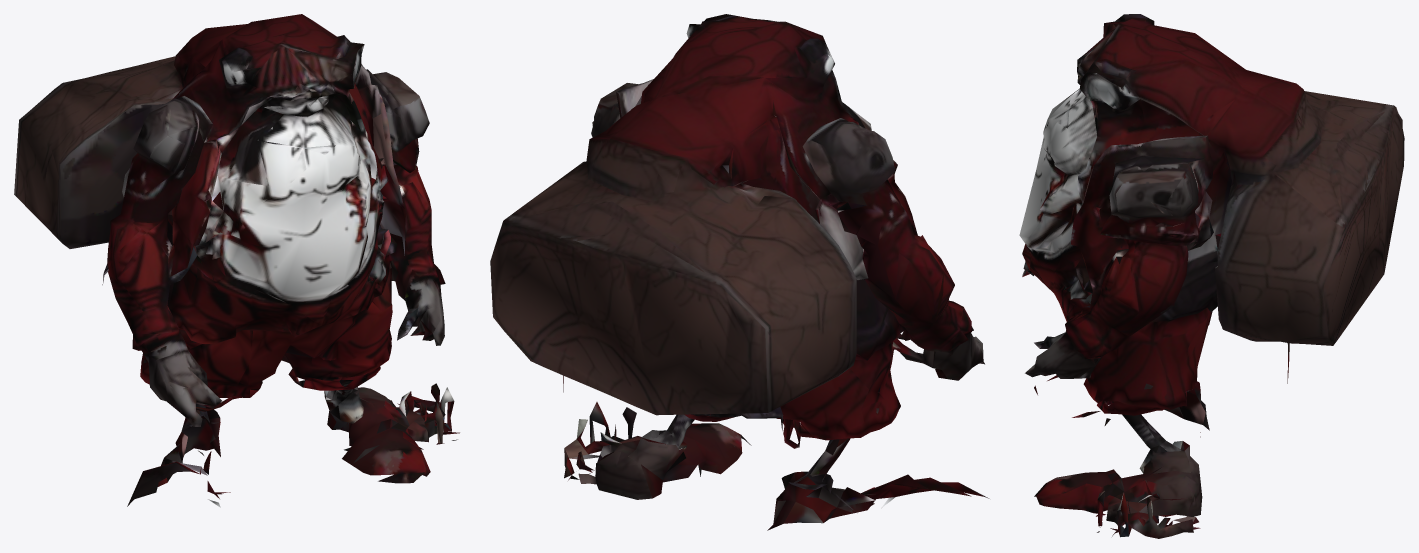
The model's file is cinderhand_thrall.glb.
The picture shows the model from 3 angles, left to right: view 1: azimuth 30°, elevation 25°; view 2: azimuth 150°, elevation 25°; view 3: azimuth 270°, elevation 25°; orthographic projection. The views are drawn at different scales.
Visible parts, largest first — view 1: LP_baked; view 2: LP_baked; view 3: LP_baked.
Part boxes in pixels (x1,y1,x2,y2): LP_baked: (14, 14, 459, 507); LP_baked: (490, 14, 989, 530); LP_baked: (1019, 14, 1404, 538).
Bounding box in the file's own units: 1.6 × 1.93 × 1.57.
1 material, 1 textured.
